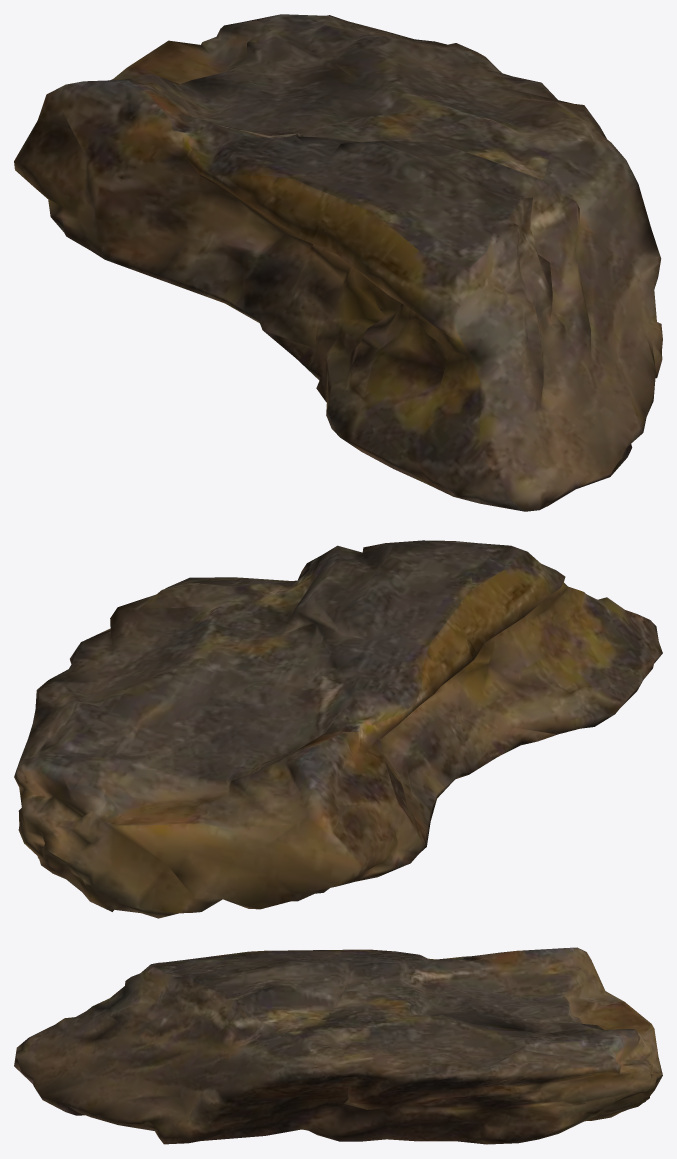
Rendered from rock_09.glb.
3 renders of one model, top to bottom at view 1: azimuth 30°, elevation 25°; view 2: azimuth 150°, elevation 25°; view 3: azimuth 270°, elevation 25°, orthographic. The views are drawn at different scales.
Parts seen in each view (by area): view 1: rock_09_LOD0; view 2: rock_09_LOD0; view 3: rock_09_LOD0.
Boxes of the visible parts, x1,y1,x2,y2 form: rock_09_LOD0: (14, 14, 662, 511); rock_09_LOD0: (14, 540, 662, 918); rock_09_LOD0: (14, 947, 662, 1144).
Bounding box in the file's own units: 0.0739 × 0.0326 × 0.1446.
1 material, 1 textured.
